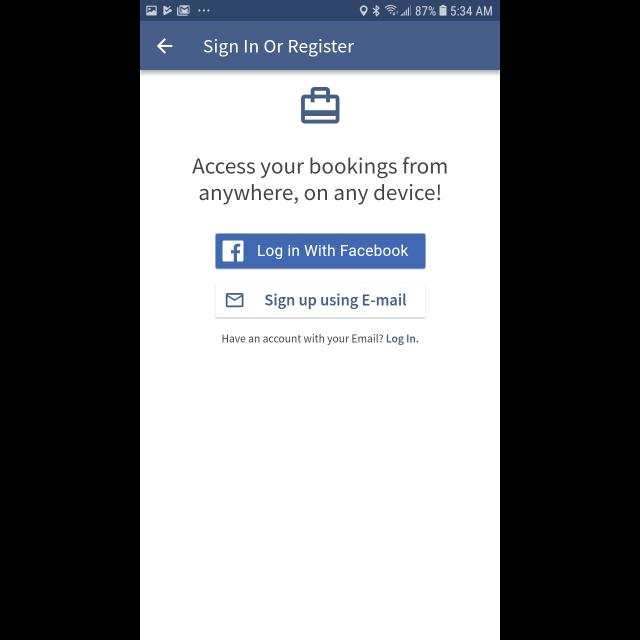icon: (300, 88, 340, 124), (157, 38, 173, 54)
text: (192, 157, 448, 205), (203, 39, 354, 57), (223, 334, 419, 346)
textbutton: (214, 282, 426, 318), (216, 234, 426, 268)
uppertaskbar: (140, 1, 500, 22)
